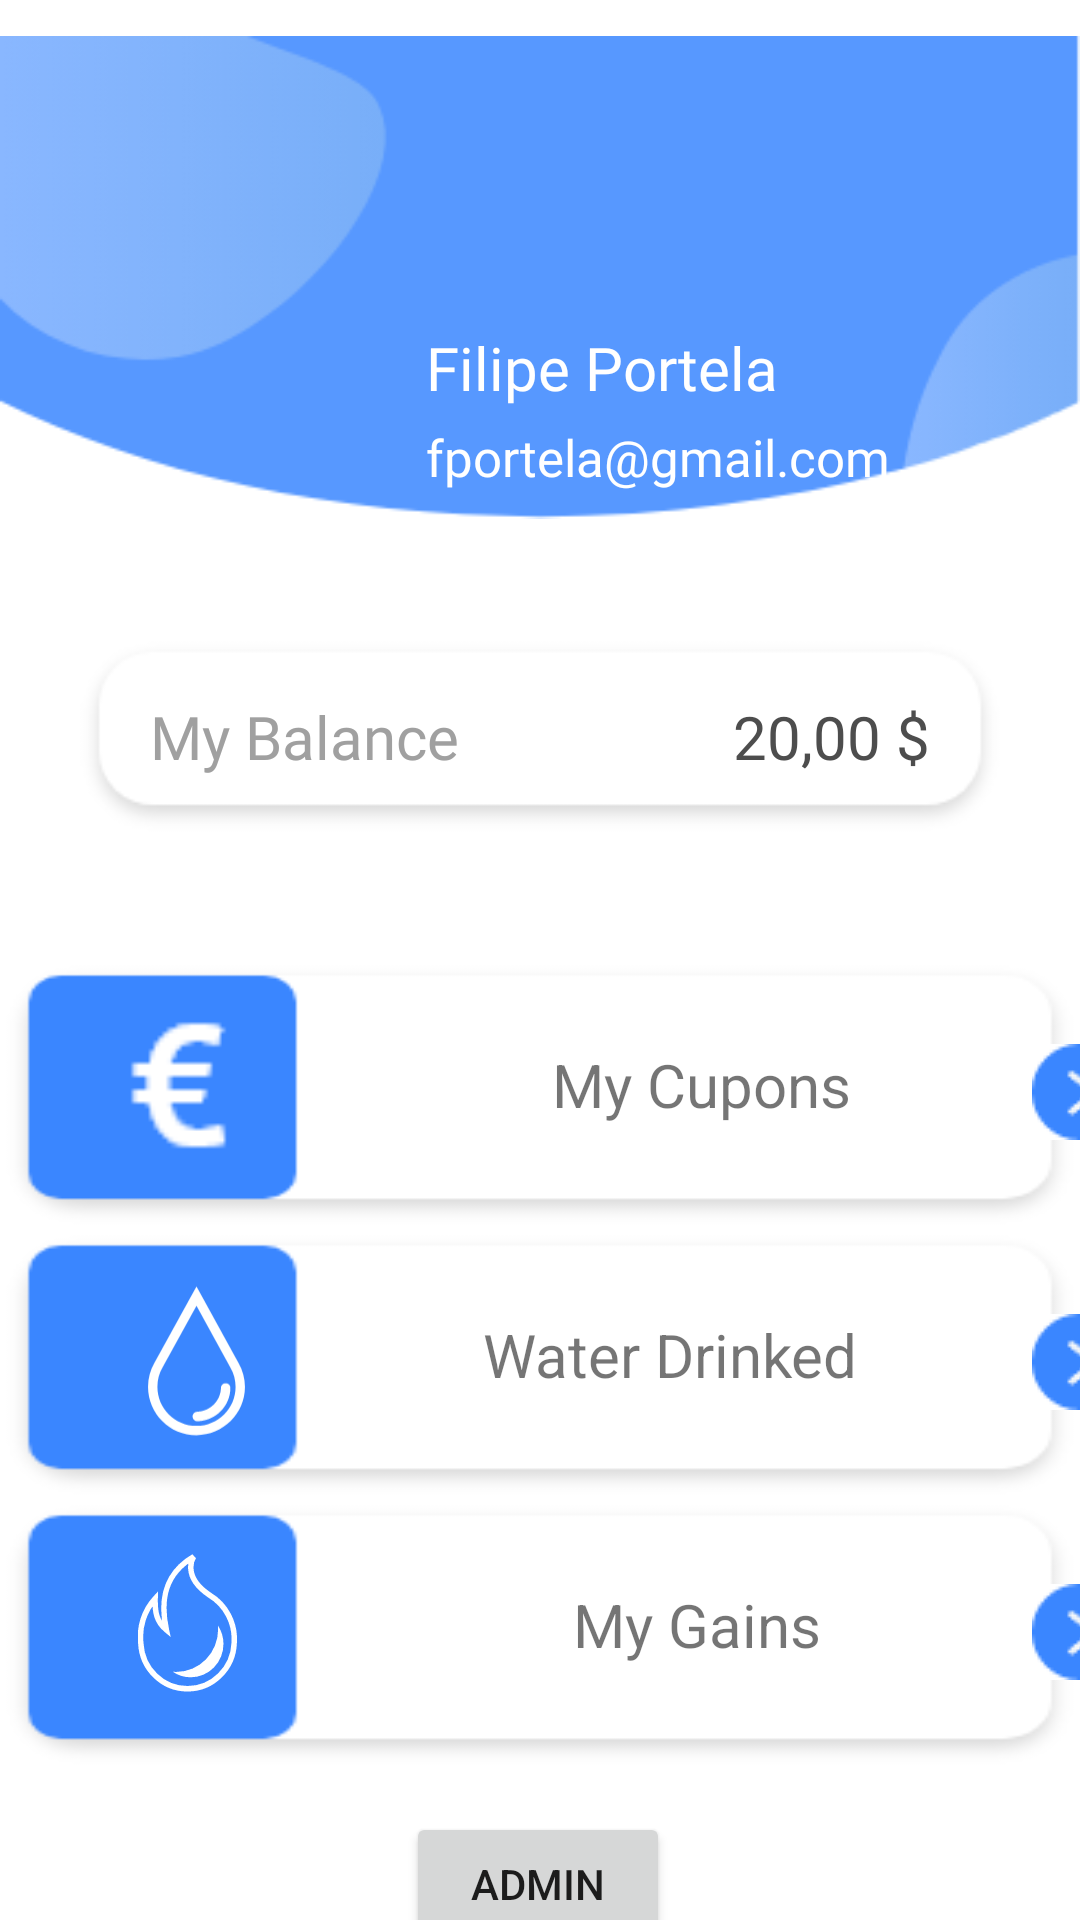

Screen size 1080 × 1920. Icon name, then its center in pixels as point (x, y):
calories: point (187, 1623)
eur: point (178, 1085)
water: point (196, 1361)
